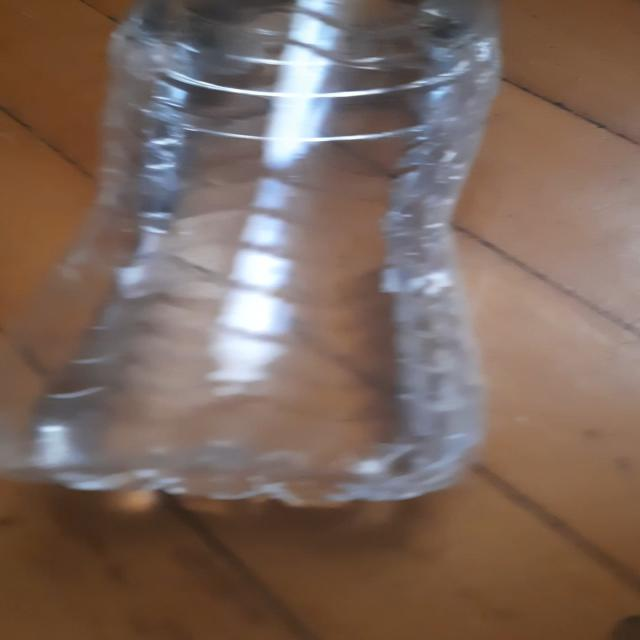Plastic: (11, 0, 532, 492)
